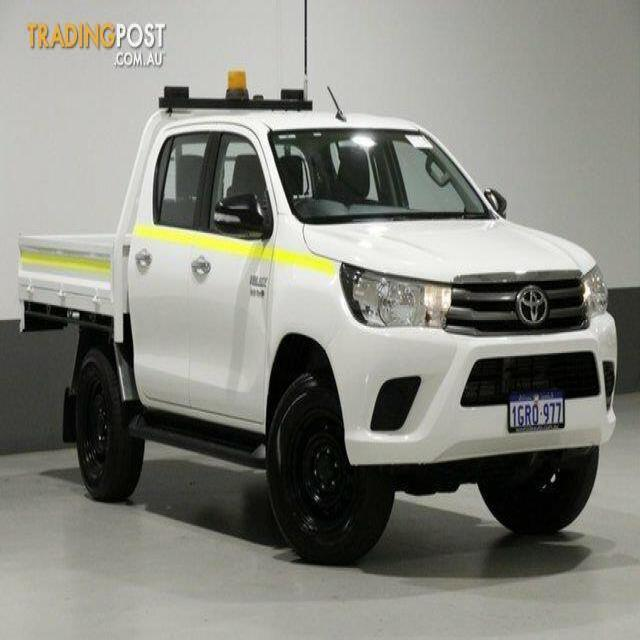light_vehicle: (15, 78, 630, 571)
